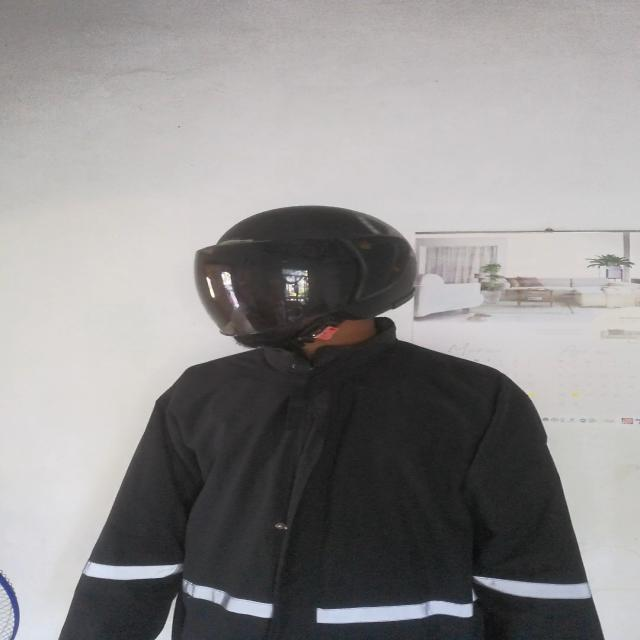Helmet_Wearer: (172, 197, 441, 363)
Jacket_Wearer: (51, 311, 607, 640)
Person: (68, 205, 593, 640)
